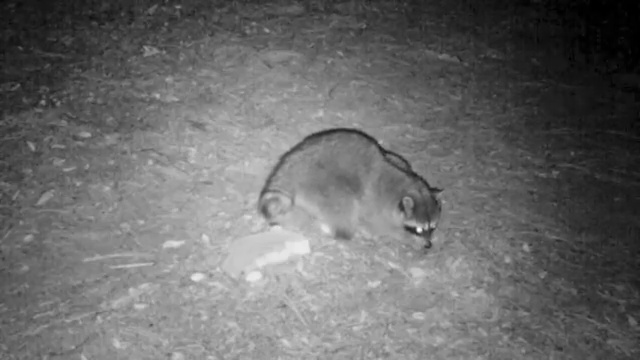raccoon: (254, 123, 444, 263)
